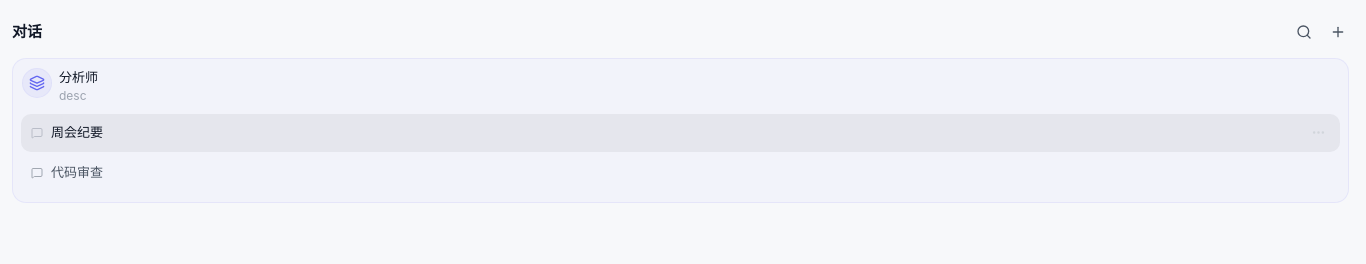
Scenario: SessionList › filters sessions from the header search control
Expected: the text "周会纪要" is shown, [51,124,103,140]
Expected: the text "代码审查" is shown, [51,164,103,180]
Click the button with test id "chat-session-search-toggle": (1304, 32) [1288,16,1320,48]
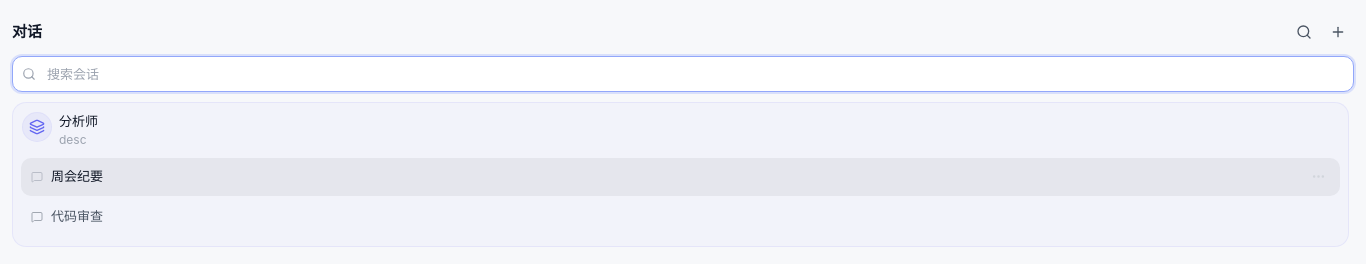
In the search field with test id "chat-session-search": (683, 74) [12,56,1354,92], type "周会"
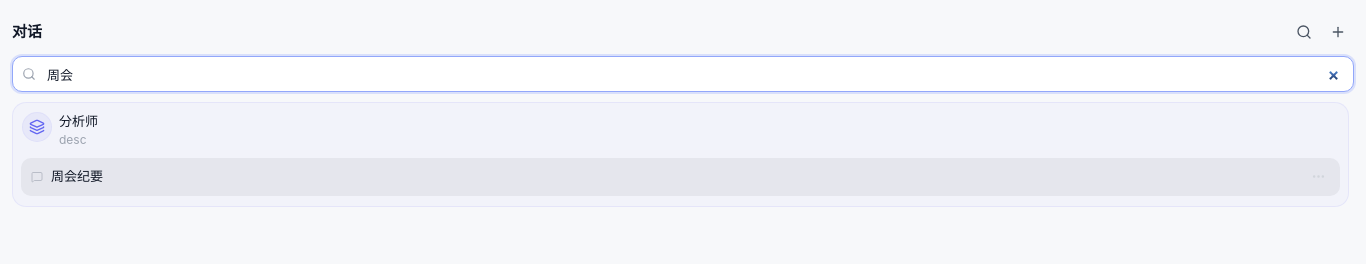
Expected: the text "周会纪要" is shown, [51,168,103,184]
Now the button "代码审查" is gone
